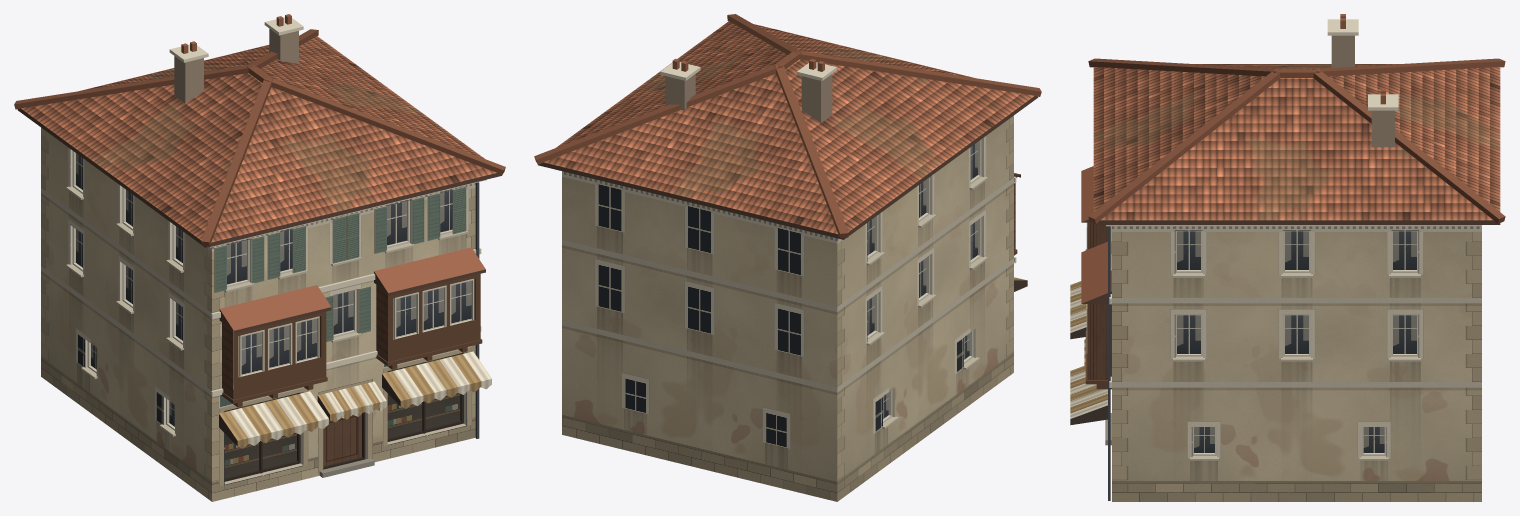
File: hero_bazaar_a.glb
The picture shows the model from 3 angles, left to right: view 1: azimuth 30°, elevation 25°; view 2: azimuth 150°, elevation 25°; view 3: azimuth 270°, elevation 25°; orthographic projection. The views are drawn at different scales.
Visible parts, largest first — view 1: bld_hero_bazaar_a; view 2: bld_hero_bazaar_a; view 3: bld_hero_bazaar_a.
Boxes of the visible parts, left/top/right/bottom form: bld_hero_bazaar_a: left=14, top=14, right=505, bottom=501; bld_hero_bazaar_a: left=534, top=14, right=1041, bottom=501; bld_hero_bazaar_a: left=1070, top=14, right=1505, bottom=501.
Size of the model in its own units: 12.33 by 13.9 by 14.12.
Materials: 1 (1 with a texture image).
